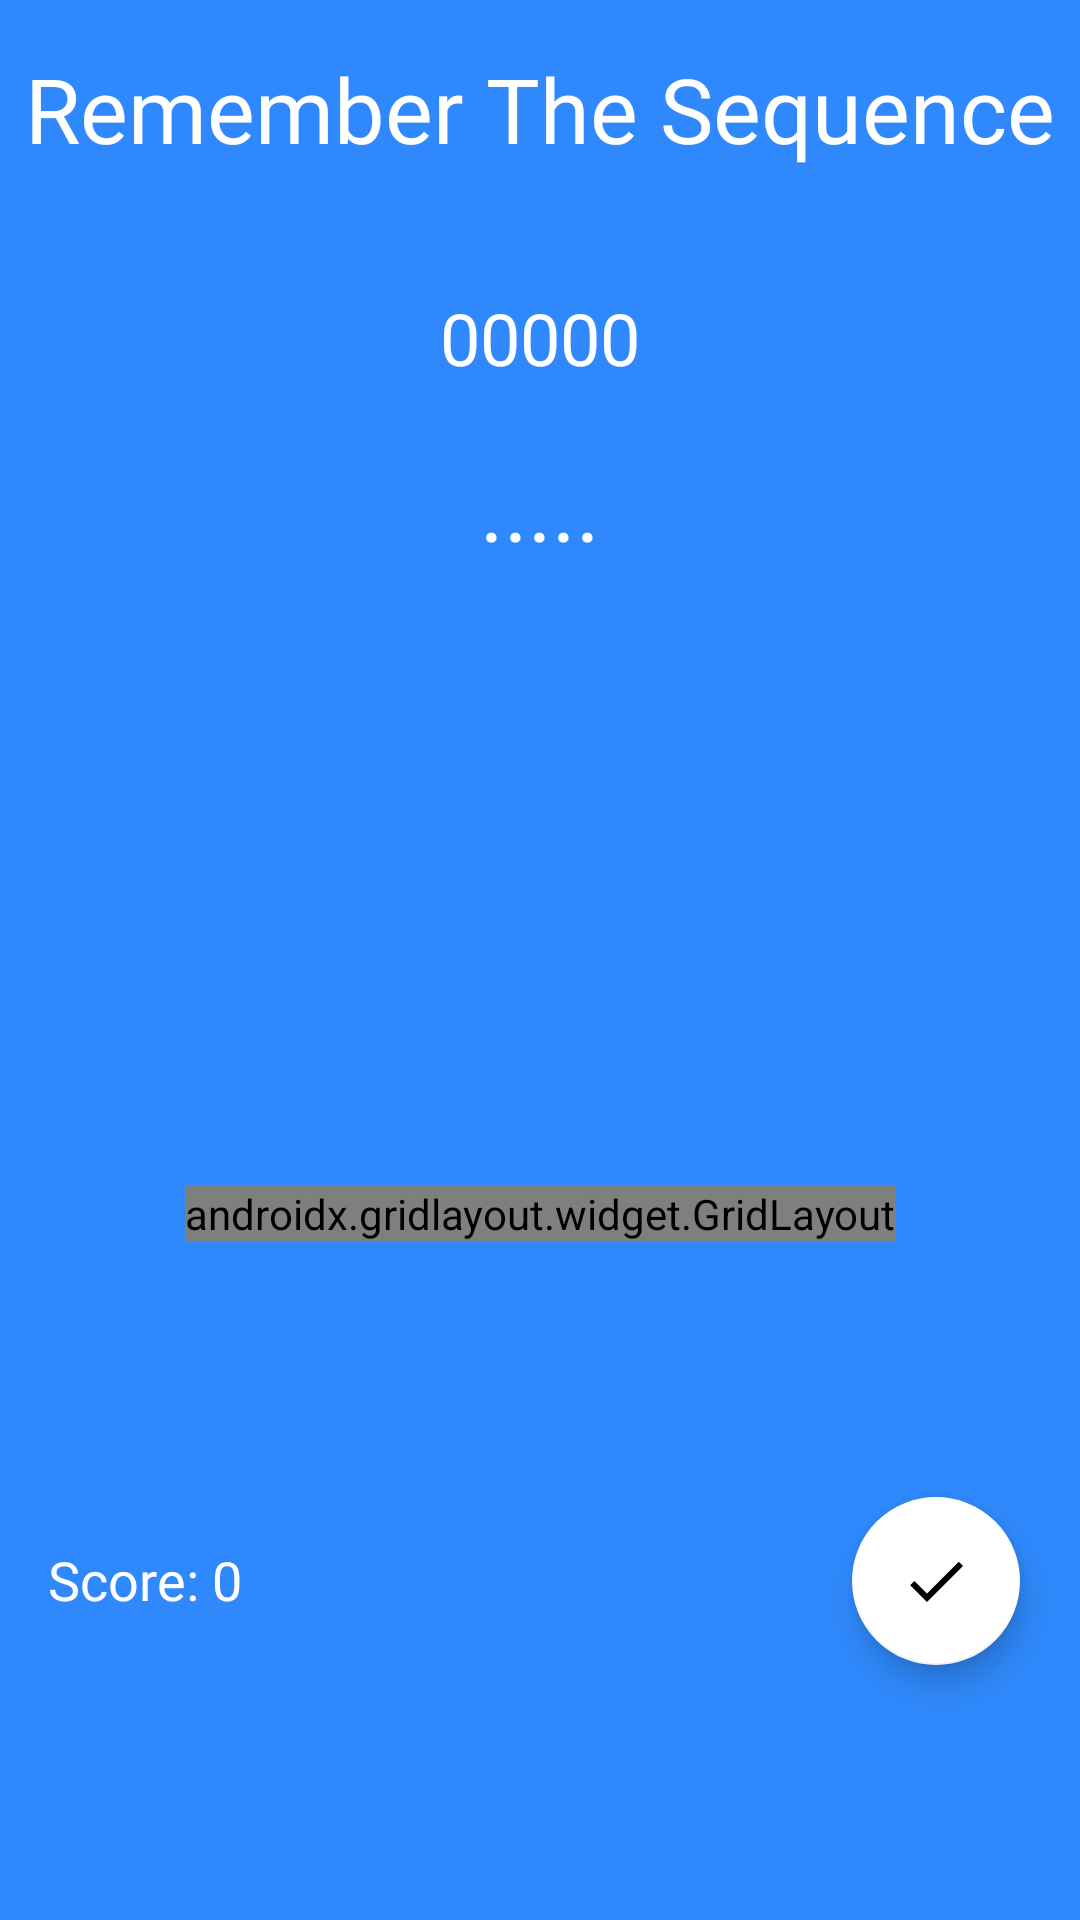

Locate icon controls on the screen. Image size 1080w x 1920h, boxes as (x1, y1, x2, y2).
done: (852, 1497, 1020, 1665)
